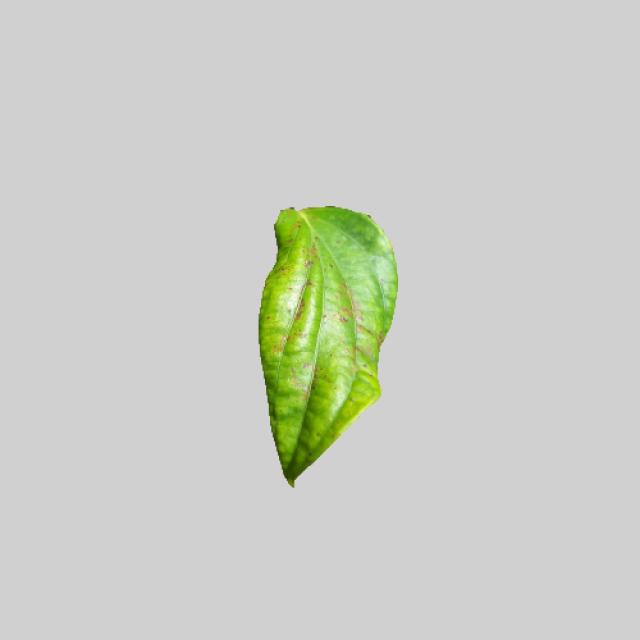yellow-mottle-virus: (247, 200, 399, 485)
